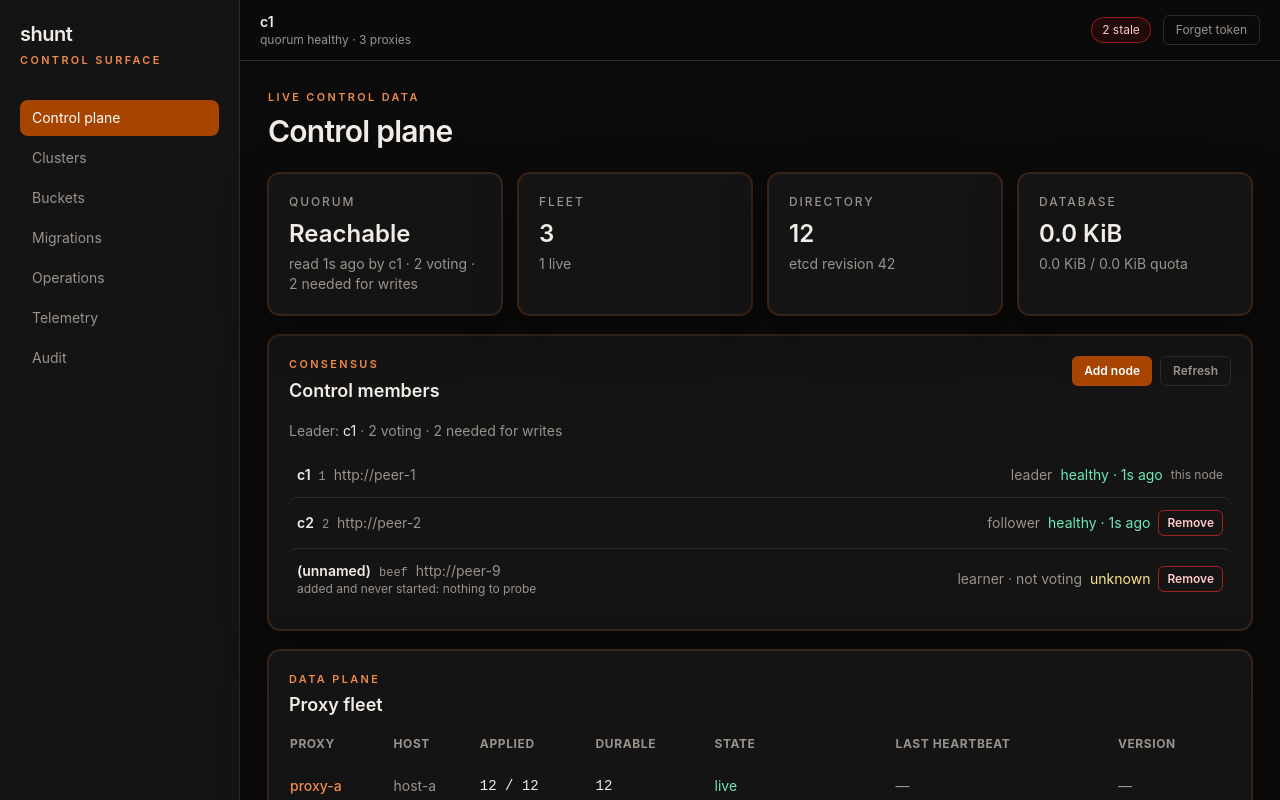
Test: joins a control member from the wizard: intent, the node's command, progress and cancel
The image size is (1280, 800).
Expected: the heading "Control members" is shown, 289,377 -> 440,405
Click the button "Add node" at [1112, 371], box 1072,356 -> 1152,386
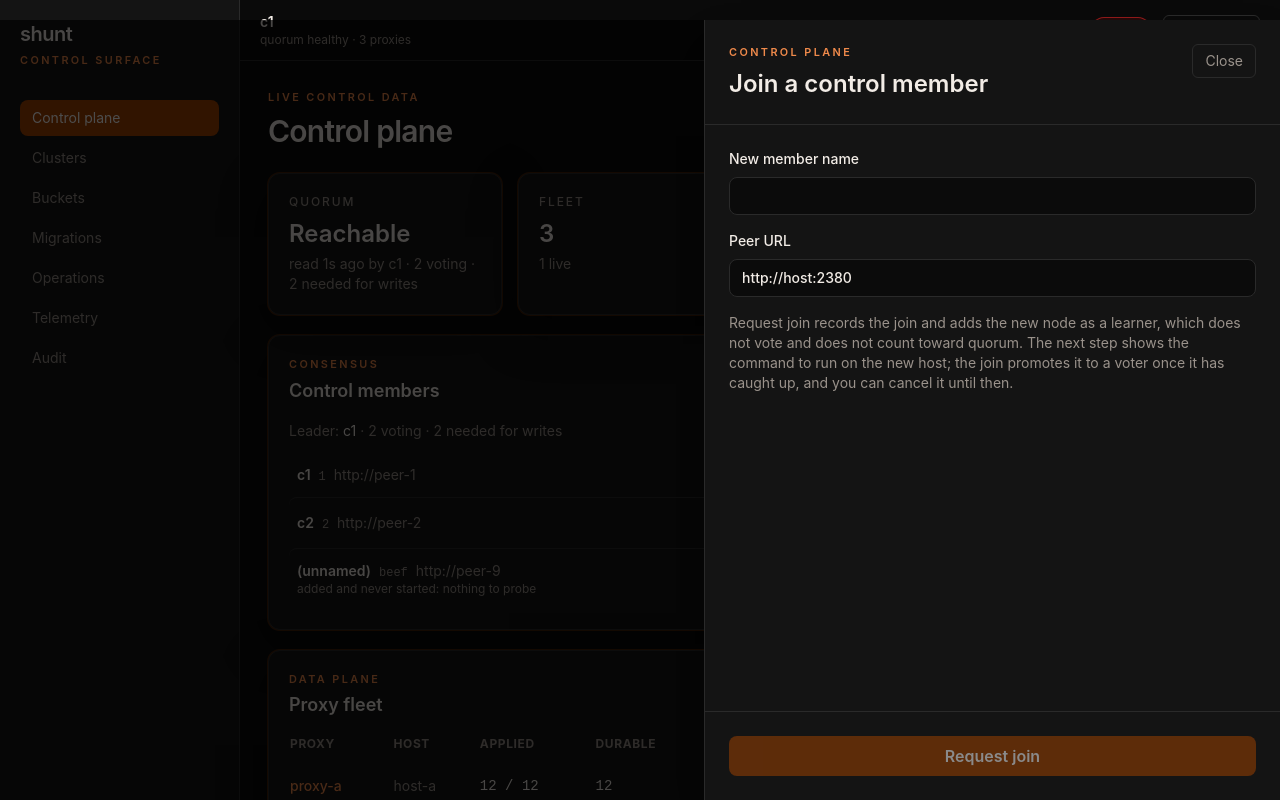
Type "c4" into the field labelled "New member name" at [992, 196], box 729,177 -> 1256,215
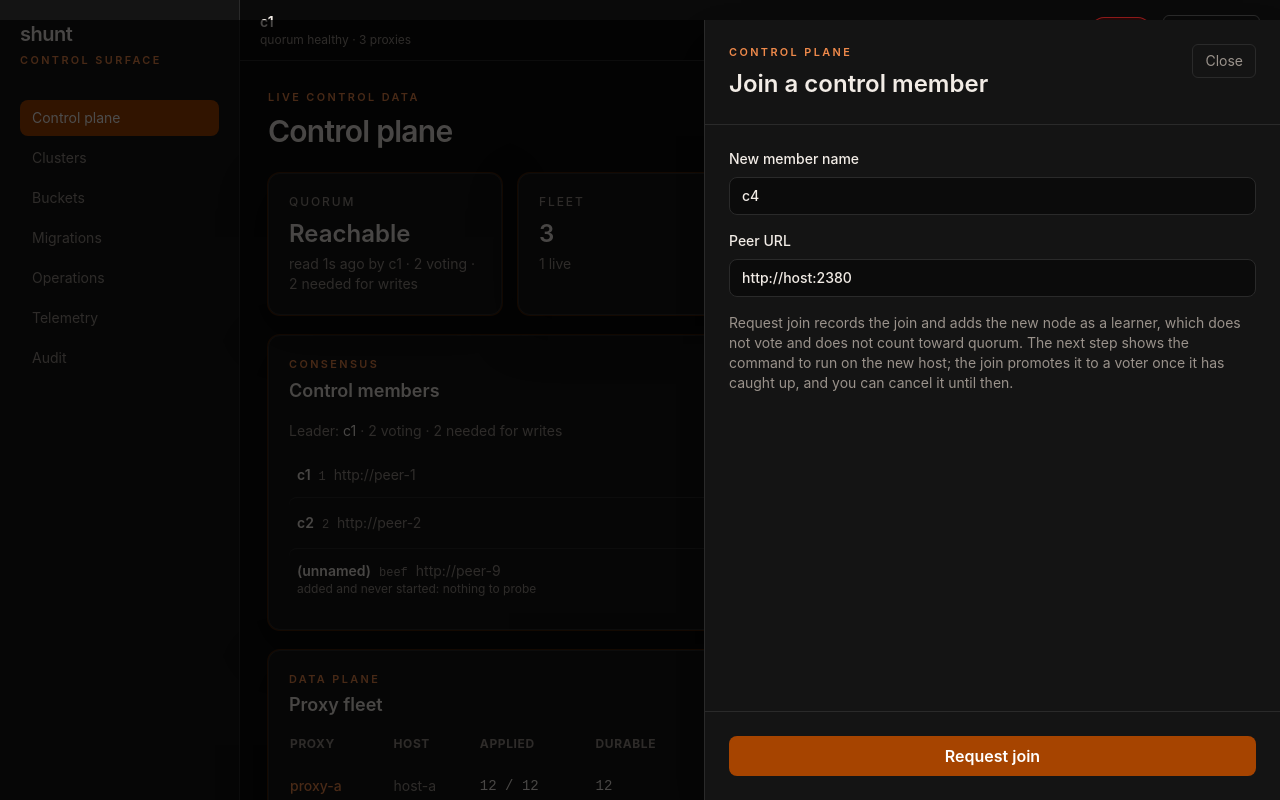
Replace the text in the field labelled "Peer URL" with "http://10.0.0.4:2380" at [992, 278], box 729,259 -> 1256,297
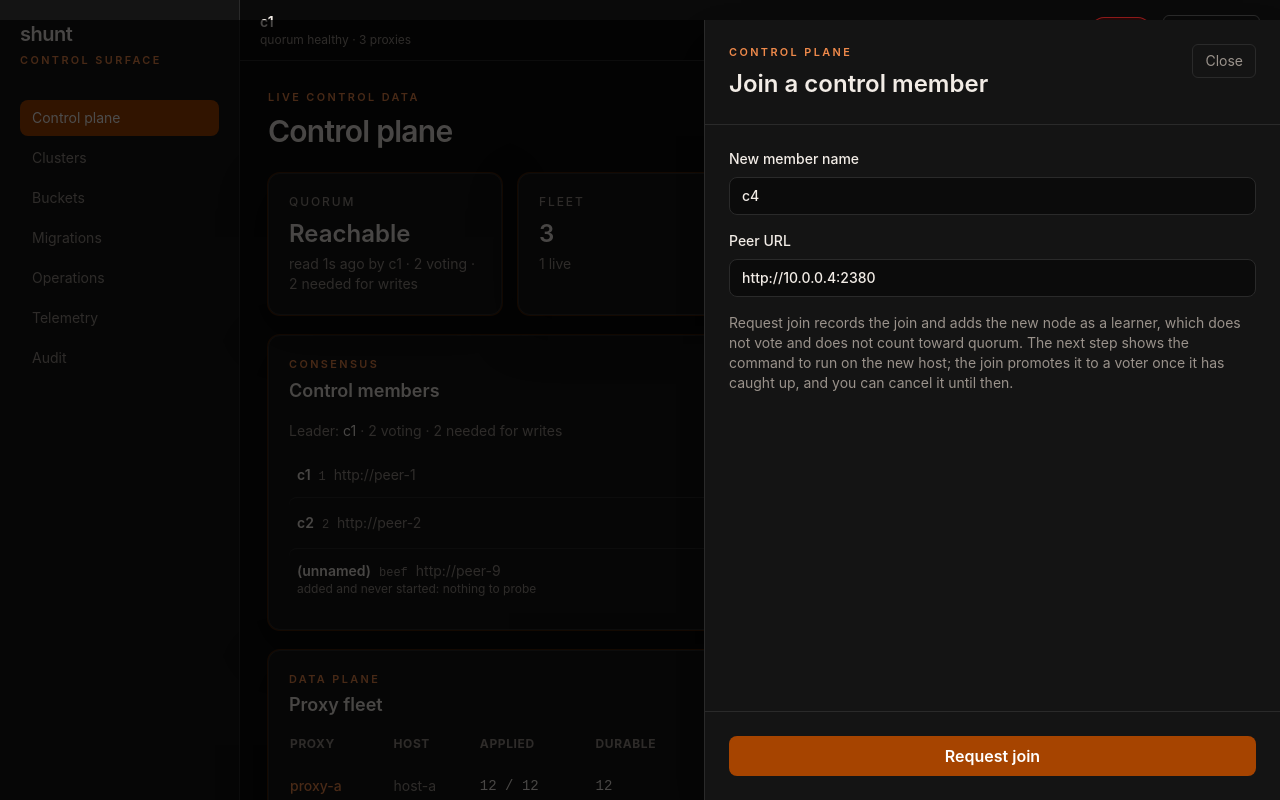
Click the button "Request join" at [992, 756], box 729,736 -> 1256,776
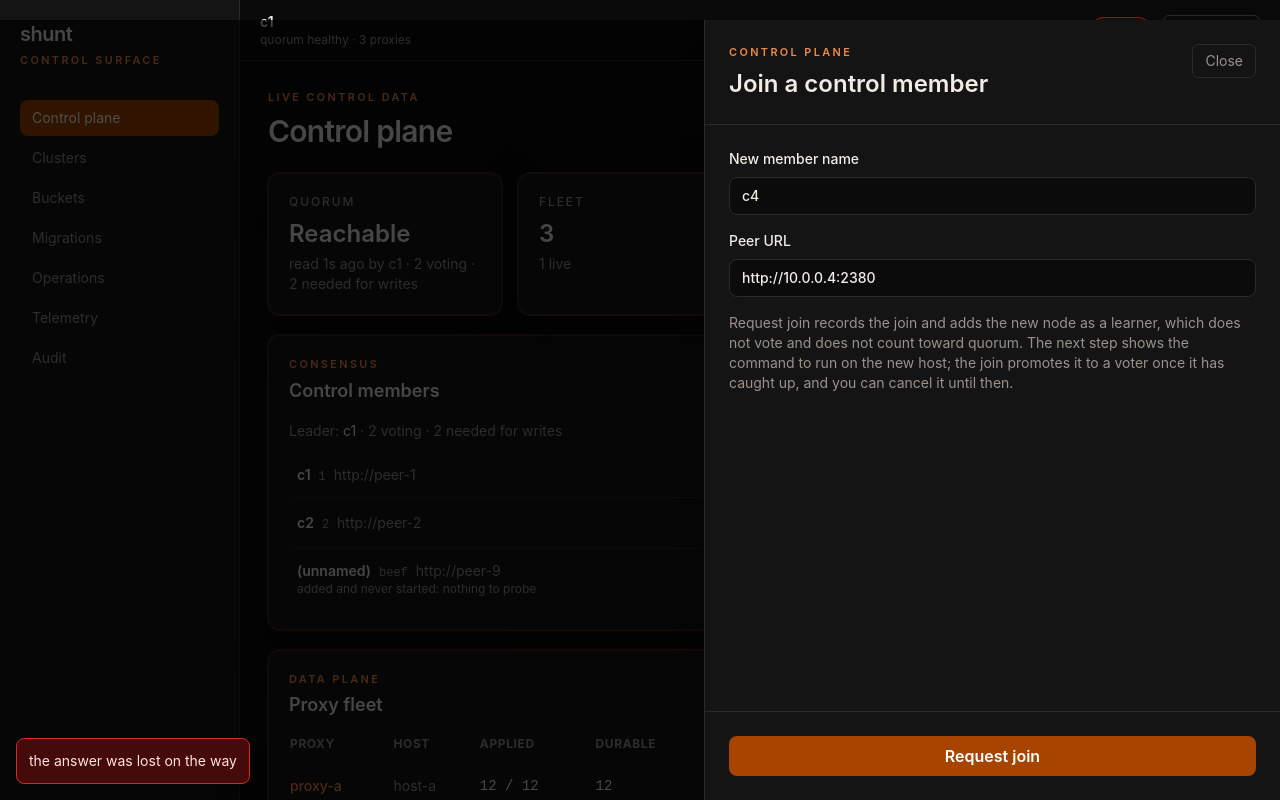
Now the button "the answer was lost on the way" is shown, box 16,738 -> 250,784
Click the button "Request join" at [992, 756], box 729,736 -> 1256,776
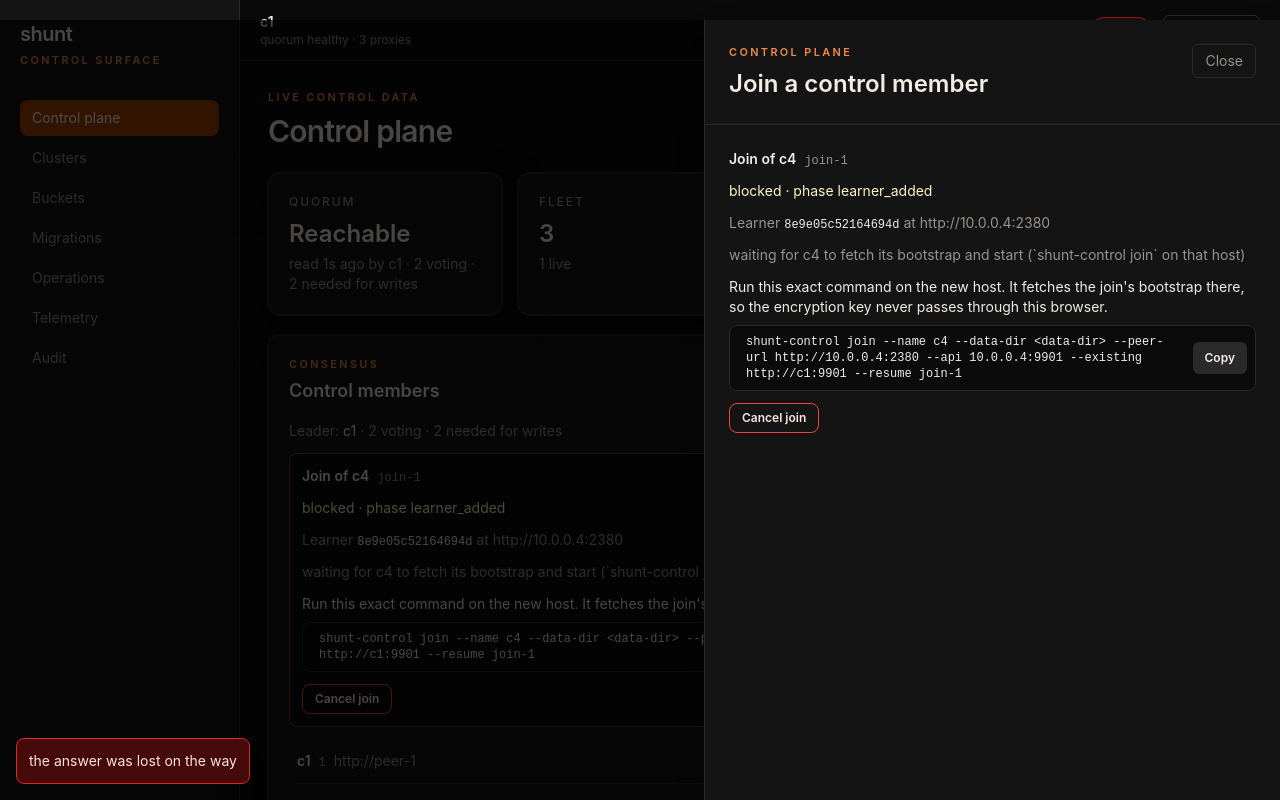
Now the text "Run this exact command on the new host" is shown, box 729,278 -> 1244,315
Now the text "shunt-control join --name c4 --data-dir <data-dir> --peer-url http://10.0.0.4:2380 --api 10.0.0.4:9901 --existing http:/" is shown, box 746,335 -> 1164,381
Now the list item "waiting for c4 to fetch its bootstrap" is shown, box 729,246 -> 1245,263
Click the button "Cancel join" at [774, 418], box 729,403 -> 819,433
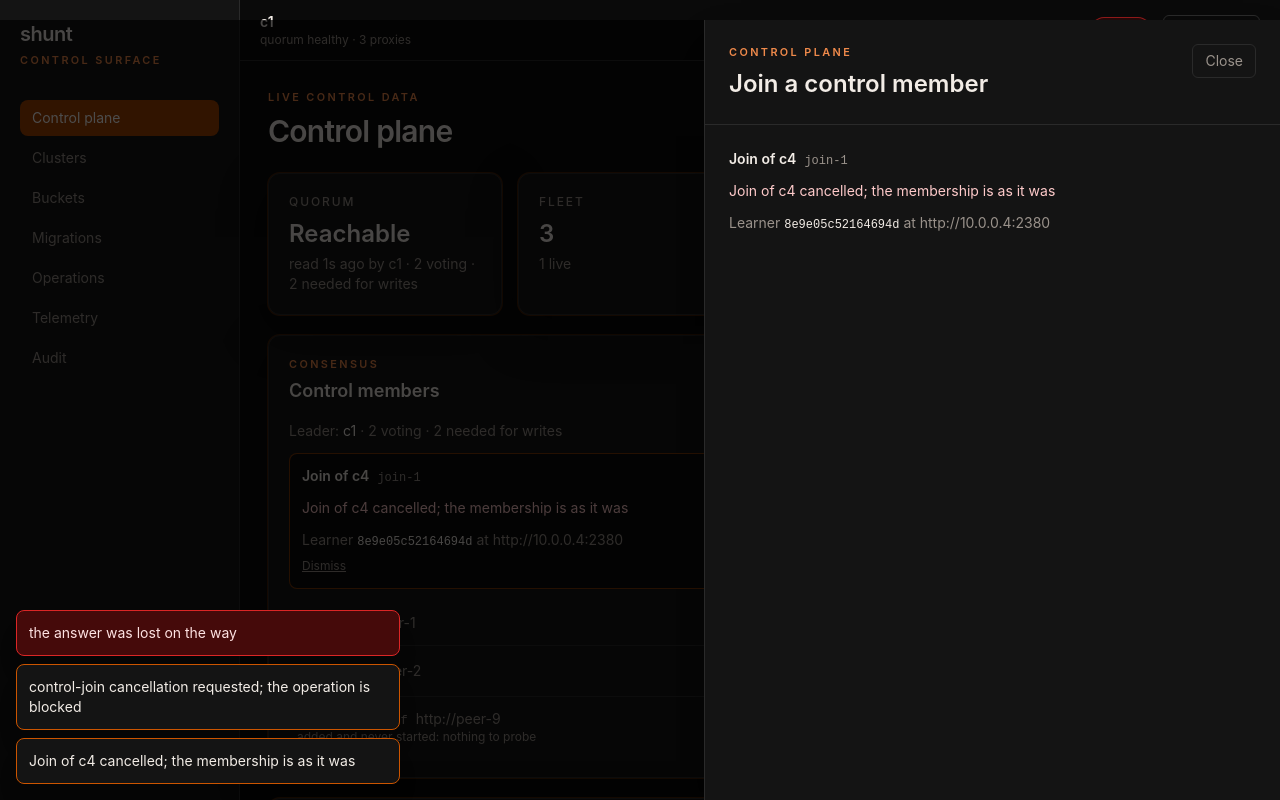
Now the button "control-join cancellation requested; the operation is blocked" is shown, box 16,664 -> 400,730
